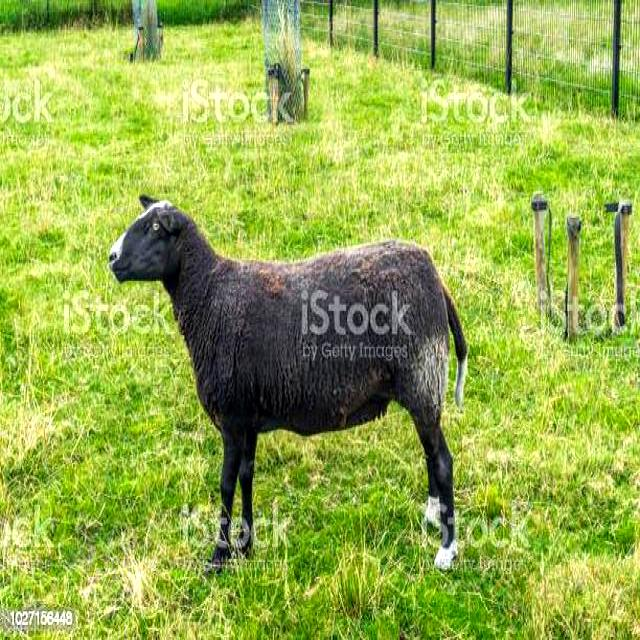sheep: (106, 188, 469, 569)
